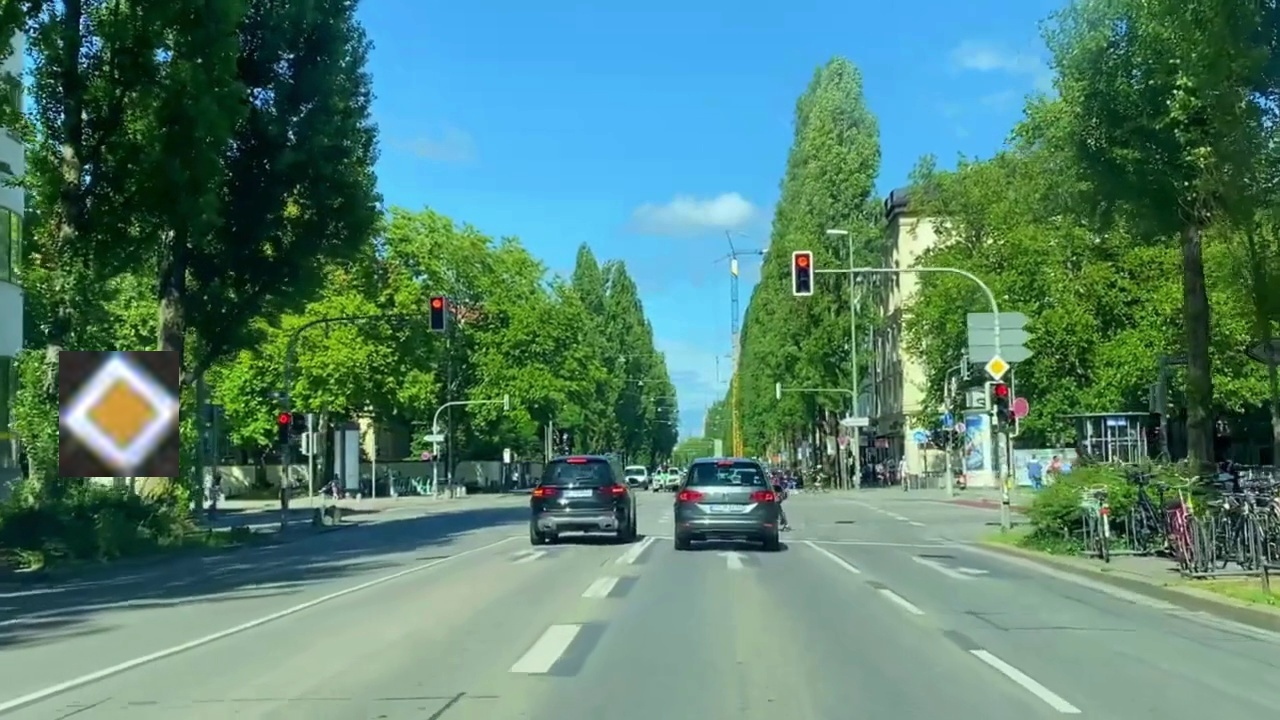Priority road: (59, 351, 179, 477)
